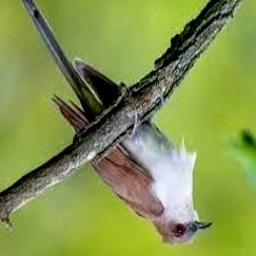Cuckoo: (14, 0, 212, 245)
